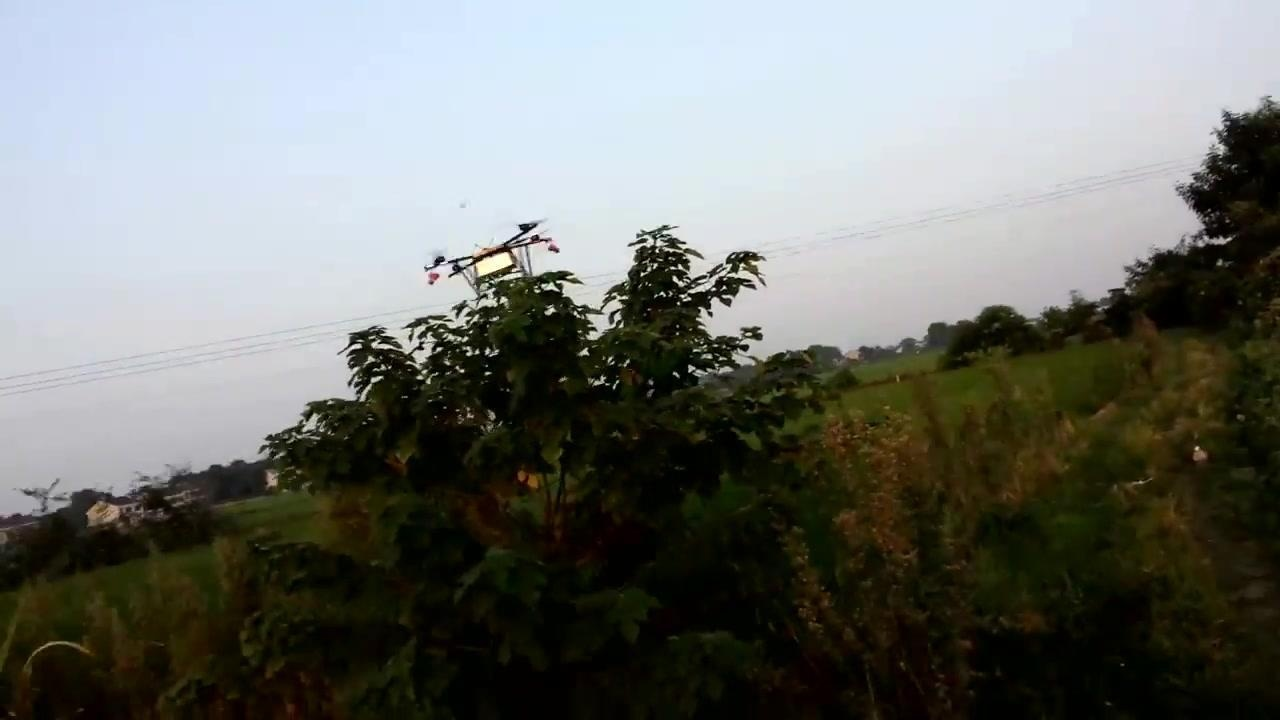UAV: (425, 218, 561, 307)
